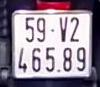1: (76, 47, 87, 72), (36, 17, 46, 42)
2: (71, 16, 81, 44)
4: (17, 46, 27, 75)
5: (23, 16, 36, 44), (44, 46, 56, 73)
6: (30, 48, 42, 73)
8: (62, 48, 73, 73)
V: (58, 16, 69, 44)
